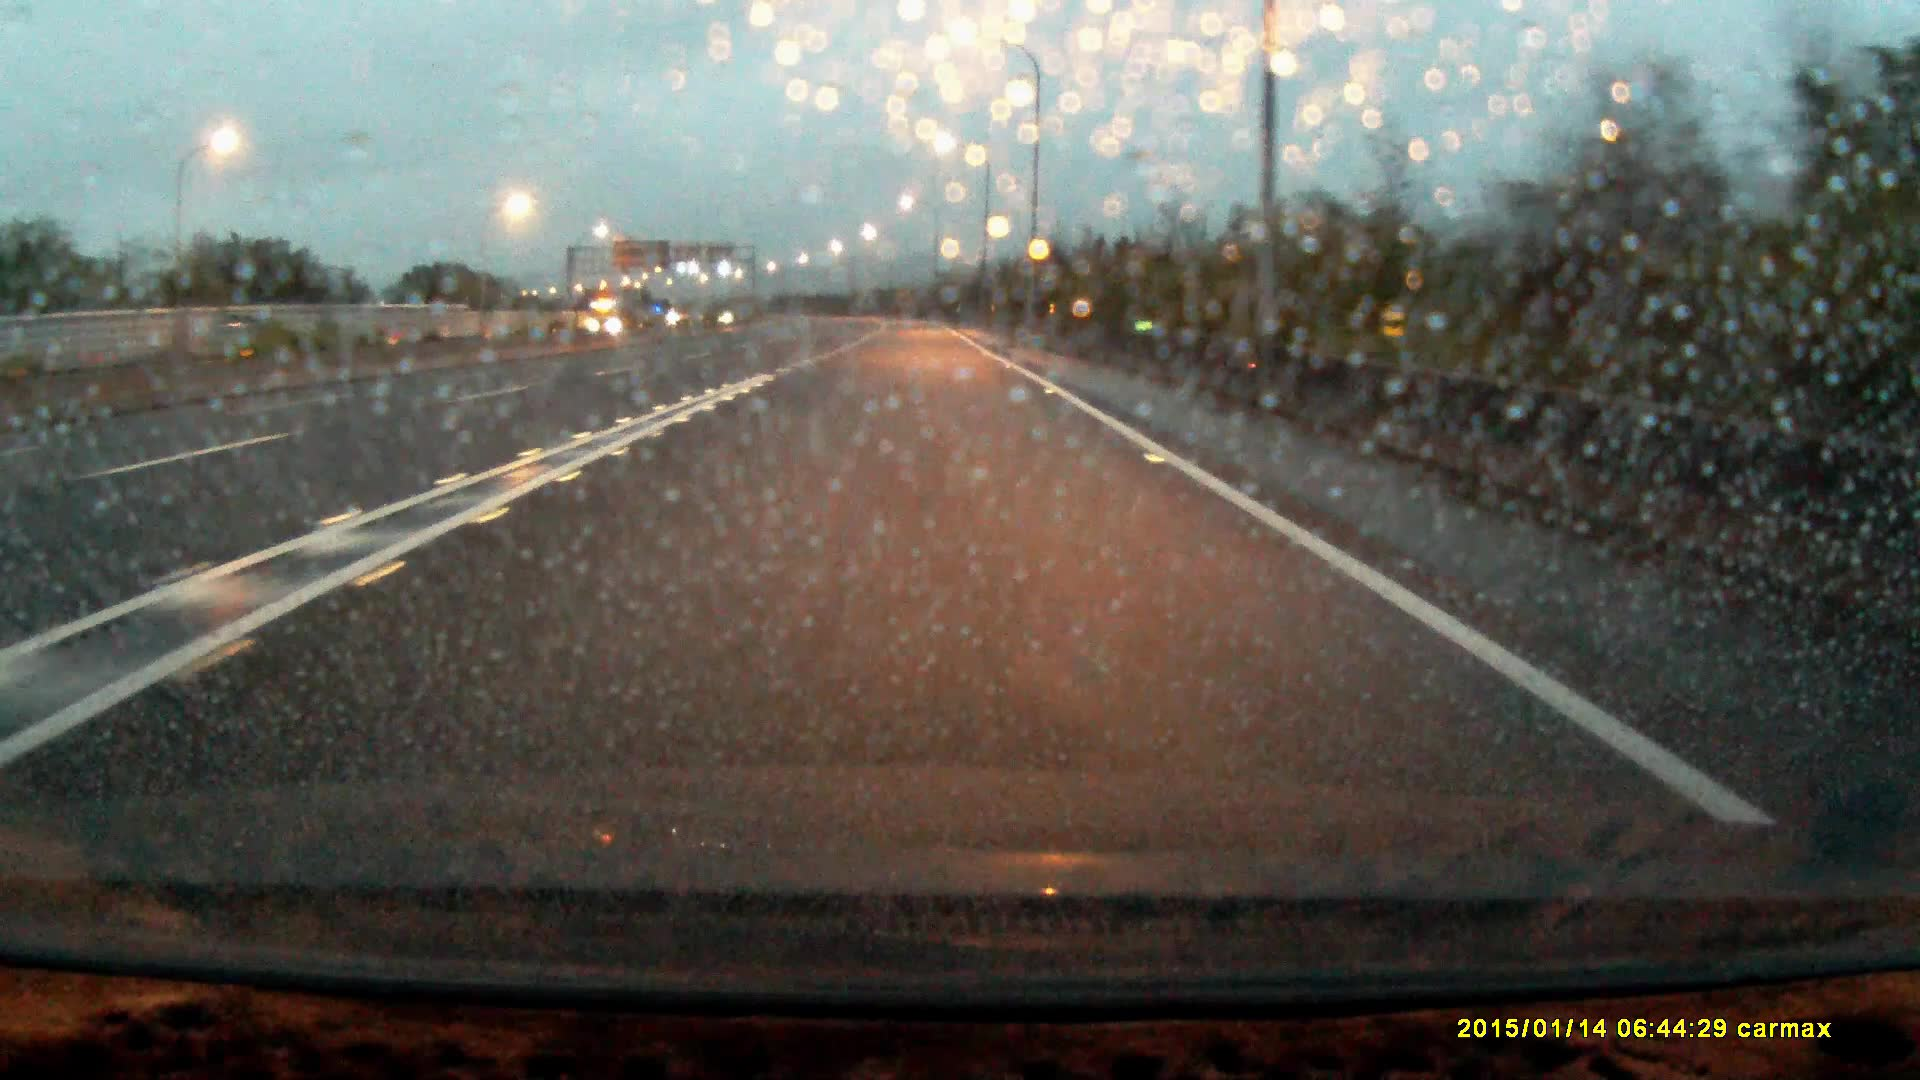vehicle: (585, 295, 629, 340)
